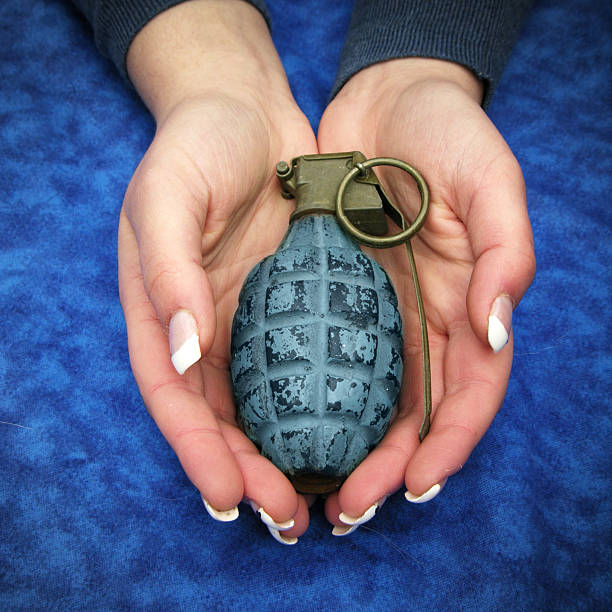e1: (230, 149, 433, 479)
